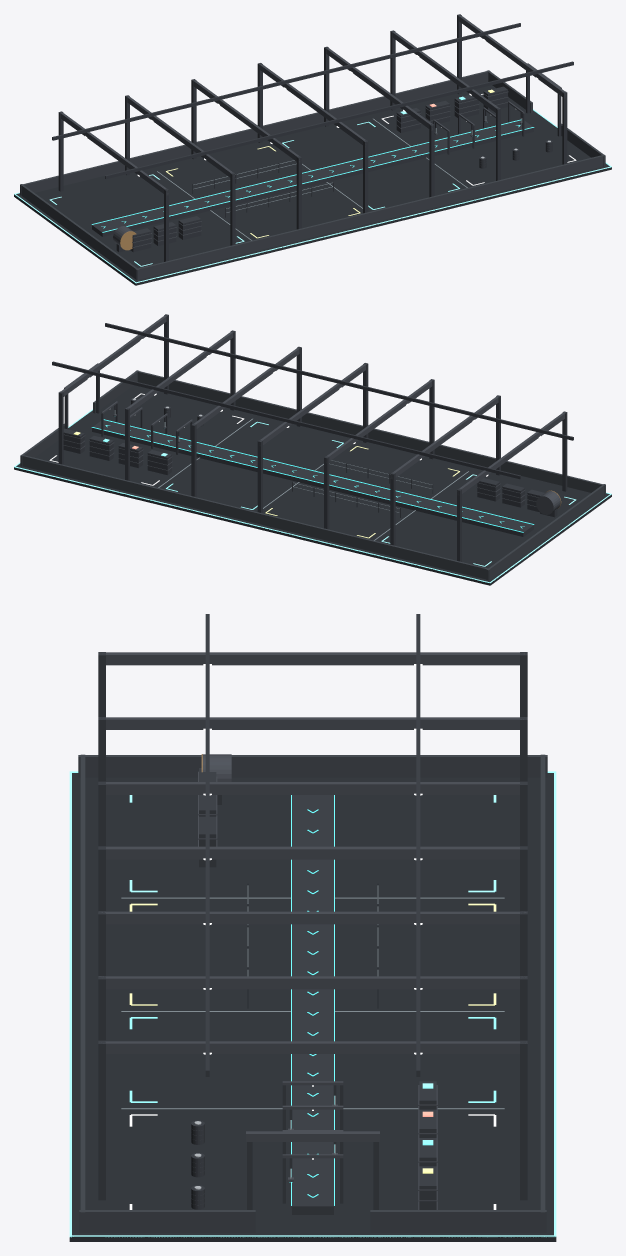
File: workshop_shell.glb
3 views of the same model, one above another, from view 1: azimuth 30°, elevation 25°; view 2: azimuth 150°, elevation 25°; view 3: azimuth 270°, elevation 25° (orthographic). The views are drawn at different scales.
Visible parts, largest first — view 1: part_floor, part_conv_bed, part_wall_n, part_wall_s, part_purlin_0, part_purlin_1, part_wall_w, part_truss_6, part_truss_4, part_truss_0, part_truss_1, part_truss_2 (+23 smaller); view 2: part_floor, part_conv_bed, part_wall_s, part_wall_n, part_purlin_1, part_purlin_0, part_wall_w, part_truss_1, part_truss_2, part_truss_0, part_truss_6, part_truss_4 (+23 smaller); view 3: part_floor, part_conv_bed, part_wall_w, part_truss_4, part_truss_0, part_truss_5, part_truss_3, part_truss_1, part_truss_6, part_truss_2, part_wall_e0, part_wall_e1 (+10 smaller).
Part boxes in pixels (x1=…): part_floor: x1=14, y1=85, x2=611, y2=285; part_conv_bed: x1=92, y1=120, x2=533, y2=236; part_wall_n: x1=135, y1=155, x2=605, y2=280; part_wall_s: x1=20, y1=70, x2=490, y2=195; part_purlin_0: x1=105, y1=61, x2=573, y2=179; part_purlin_1: x1=52, y1=23, x2=520, y2=140; part_wall_w: x1=20, y1=184, x2=139, y2=280; part_truss_6: x1=459, y1=15, x2=566, y2=98; part_truss_4: x1=326, y1=48, x2=433, y2=130; part_truss_0: x1=60, y1=111, x2=168, y2=195; part_truss_1: x1=127, y1=95, x2=234, y2=177; part_truss_2: x1=193, y1=79, x2=299, y2=162; part_floor: x1=14, y1=385, x2=611, y2=585; part_conv_bed: x1=92, y1=420, x2=533, y2=536; part_wall_s: x1=20, y1=455, x2=490, y2=580; part_wall_n: x1=135, y1=370, x2=605, y2=495; part_purlin_1: x1=52, y1=361, x2=520, y2=479; part_purlin_0: x1=105, y1=323, x2=573, y2=440; part_wall_w: x1=486, y1=484, x2=605, y2=580; part_truss_1: x1=391, y1=395, x2=499, y2=479; part_truss_2: x1=325, y1=379, x2=432, y2=463; part_truss_0: x1=457, y1=411, x2=565, y2=495; part_truss_6: x1=59, y1=315, x2=167, y2=396; part_truss_4: x1=192, y1=348, x2=299, y2=428; part_floor: x1=69, y1=773, x2=556, y2=1241; part_conv_bed: x1=292, y1=795, x2=333, y2=1214; part_wall_w: x1=78, y1=755, x2=547, y2=777; part_truss_4: x1=99, y1=911, x2=527, y2=924; part_truss_0: x1=98, y1=652, x2=526, y2=665; part_truss_5: x1=99, y1=976, x2=526, y2=989; part_truss_3: x1=106, y1=846, x2=519, y2=859; part_truss_1: x1=103, y1=717, x2=523, y2=729; part_truss_6: x1=101, y1=1041, x2=526, y2=1053; part_truss_2: x1=106, y1=782, x2=519, y2=794; part_wall_e0: x1=79, y1=1210, x2=255, y2=1232; part_wall_e1: x1=370, y1=1210, x2=546, y2=1232.
Bounding box in the file's own units: 57.4 × 9.62 × 25.4.
